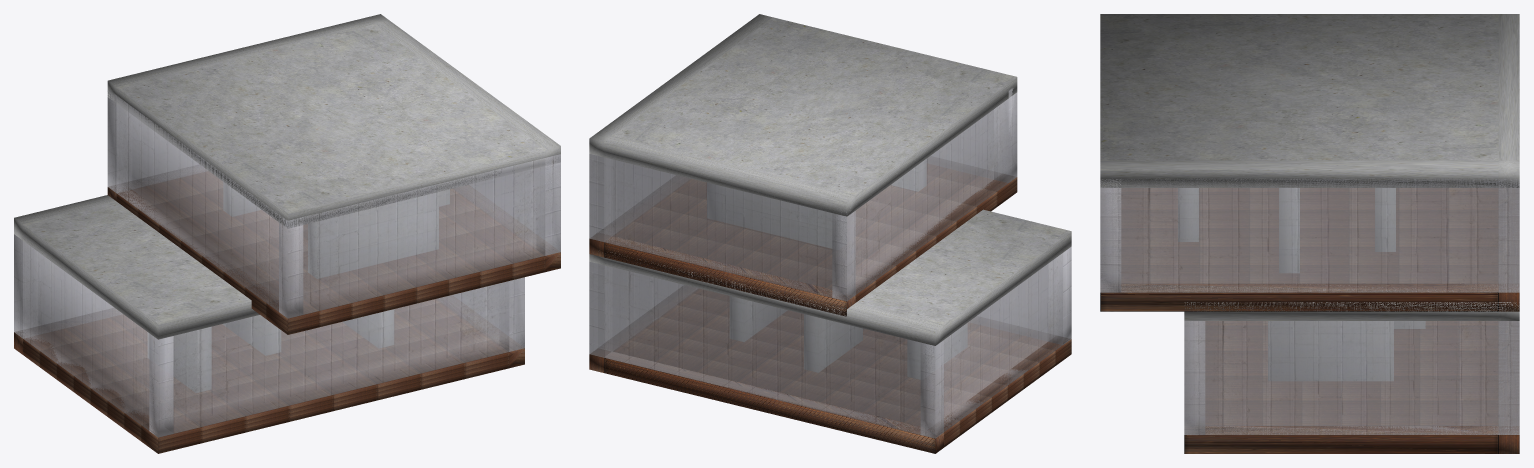
File: level_generator.fbx
3 renders of one model, left to right at view 1: azimuth 30°, elevation 25°; view 2: azimuth 150°, elevation 25°; view 3: azimuth 270°, elevation 25°, orthographic. The views are drawn at different scales.
Visible parts, largest first — view 1: Cube.017, Cube, Cube.002, Cube.011, Cube.009, Cube.013, Cube.008, Cube.004, Cube.016, Cube.001, Cube.010, Cube.012 (+5 smaller); view 2: Cube.017, Cube, Cube.001, Cube.009, Cube.010, Cube.008, Cube.013, Cube.004, Cube.002, Cube.003, Cube.014, Cube.011 (+5 smaller); view 3: Cube.017, Cube.012, Cube.009, Cube.003, Cube, Cube.005, Cube.008, Cube.002, Cube.001, Cube.010, Cube.011, Cube.015 (+2 smaller).
Part boxes in pixels (left/top/right/bottom): Cube.017: left=107, top=14, right=560, bottom=228; Cube: left=14, top=299, right=524, bottom=453; Cube.002: left=149, top=277, right=524, bottom=437; Cube.011: left=279, top=154, right=560, bottom=318; Cube.009: left=107, top=171, right=560, bottom=334; Cube.013: left=107, top=90, right=303, bottom=318; Cube.008: left=14, top=195, right=259, bottom=339; Cube.004: left=14, top=234, right=173, bottom=437; Cube.016: left=308, top=192, right=438, bottom=278; Cube.001: left=14, top=234, right=113, bottom=338; Cube.010: left=108, top=93, right=206, bottom=192; Cube.012: left=455, top=154, right=560, bottom=255; Cube.017: left=589, top=14, right=1017, bottom=216; Cube: left=589, top=289, right=1071, bottom=453; Cube.001: left=589, top=262, right=943, bottom=437; Cube.009: left=589, top=163, right=1017, bottom=316; Cube.010: left=589, top=154, right=855, bottom=300; Cube.008: left=589, top=209, right=1071, bottom=345; Cube.013: left=832, top=93, right=1017, bottom=301; Cube.004: left=920, top=247, right=1071, bottom=438; Cube.002: left=970, top=247, right=1071, bottom=344; Cube.003: left=589, top=262, right=697, bottom=357; Cube.014: left=707, top=183, right=831, bottom=248; Cube.011: left=927, top=88, right=1017, bottom=182; Cube.017: left=1100, top=14, right=1519, bottom=187; Cube.012: left=1100, top=178, right=1519, bottom=292; Cube.009: left=1100, top=188, right=1519, bottom=311; Cube.003: left=1184, top=321, right=1519, bottom=434; Cube: left=1184, top=321, right=1519, bottom=453; Cube.005: left=1268, top=321, right=1393, bottom=380; Cube.008: left=1184, top=302, right=1519, bottom=320; Cube.002: left=1184, top=321, right=1205, bottom=434; Cube.001: left=1499, top=321, right=1519, bottom=434; Cube.010: left=1499, top=179, right=1519, bottom=292; Cube.011: left=1100, top=179, right=1121, bottom=292; Cube.015: left=1279, top=188, right=1299, bottom=272.
Size of the model in its own units: 47 by 30 by 40.
